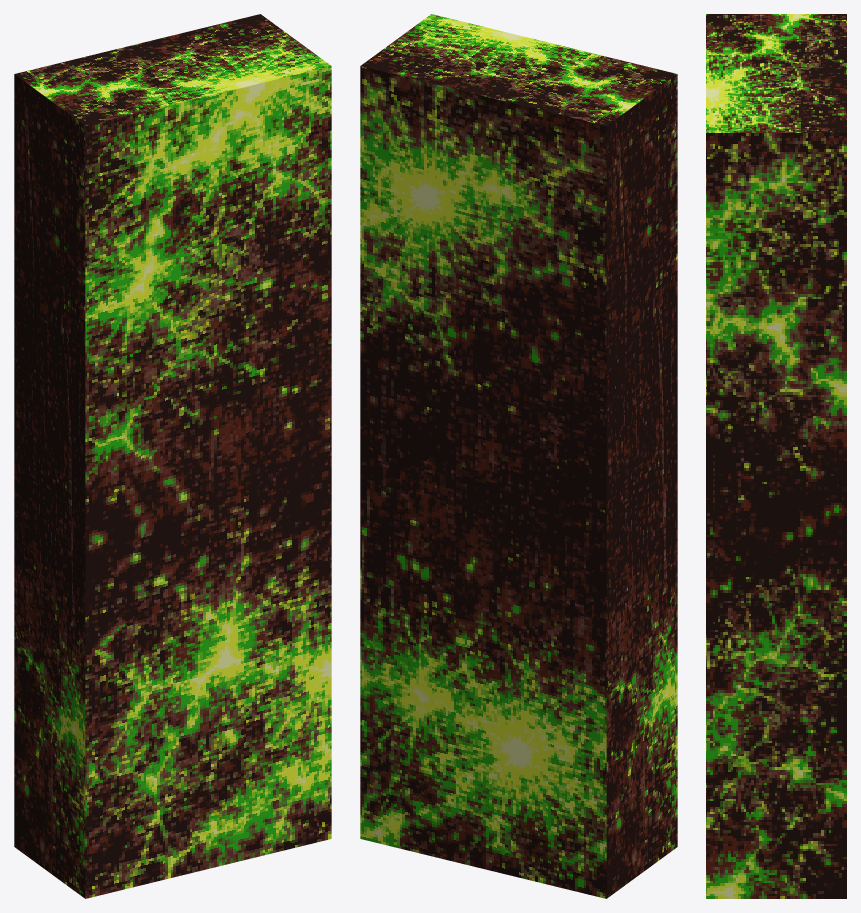
File: wbzbmodel002.gltf
3 views of the same model, side by side, from view 1: azimuth 30°, elevation 25°; view 2: azimuth 150°, elevation 25°; view 3: azimuth 270°, elevation 25° (orthographic).
Parts seen in each view (by area): view 1: mesh; view 2: mesh; view 3: mesh.
Boxes of the visible parts, <box> form: mesh: <box>14,14,331,898</box>; mesh: <box>360,14,677,898</box>; mesh: <box>706,14,846,898</box>.
Bounding box in the file's own units: 0.0625 × 0.1875 × 0.0313.
Materials: 2 (2 with a texture image).
